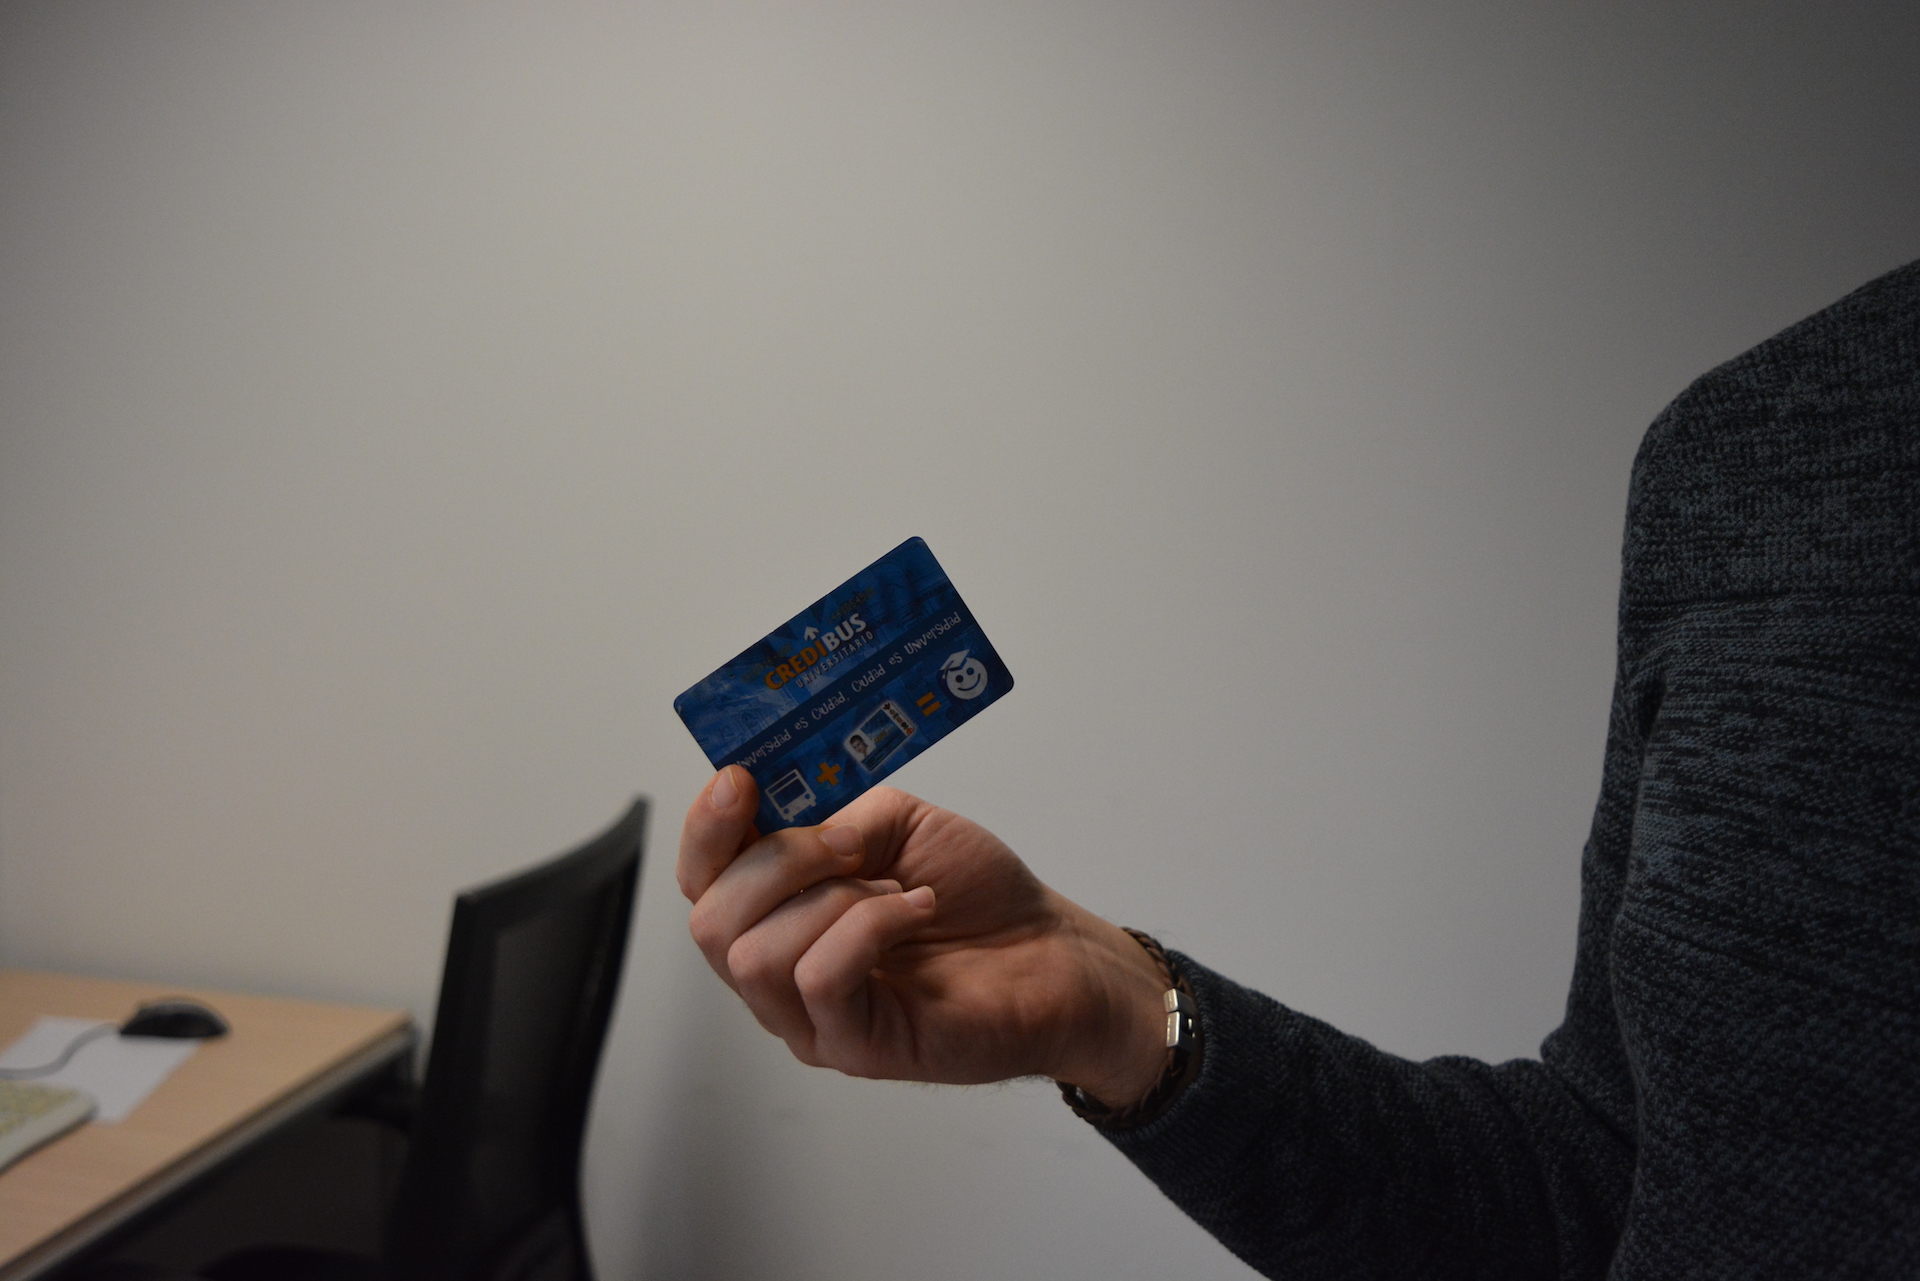tarjeta: (672, 535, 1016, 844)
